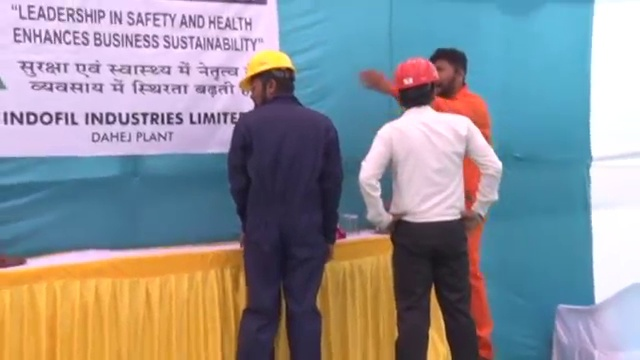helmet: (237, 50, 299, 92), (394, 56, 440, 91)
helmet_off: (429, 47, 470, 99)
helmet_on: (236, 49, 300, 107), (394, 56, 442, 111)
person: (356, 56, 504, 360), (226, 50, 345, 360), (427, 45, 511, 360)
